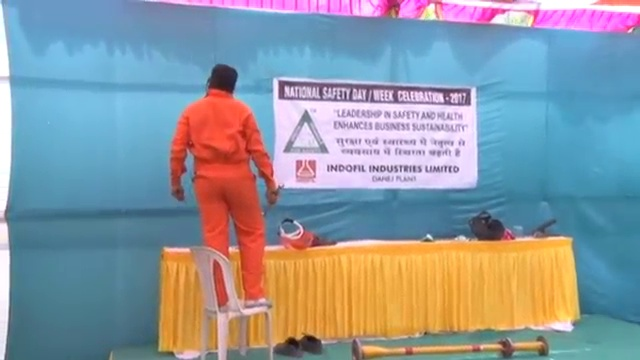helmet_off: (205, 59, 240, 94)
person: (166, 57, 278, 310)
